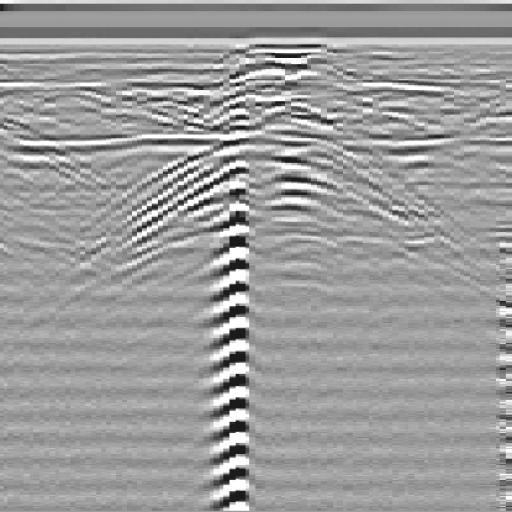metalic: (86, 45, 439, 336)
